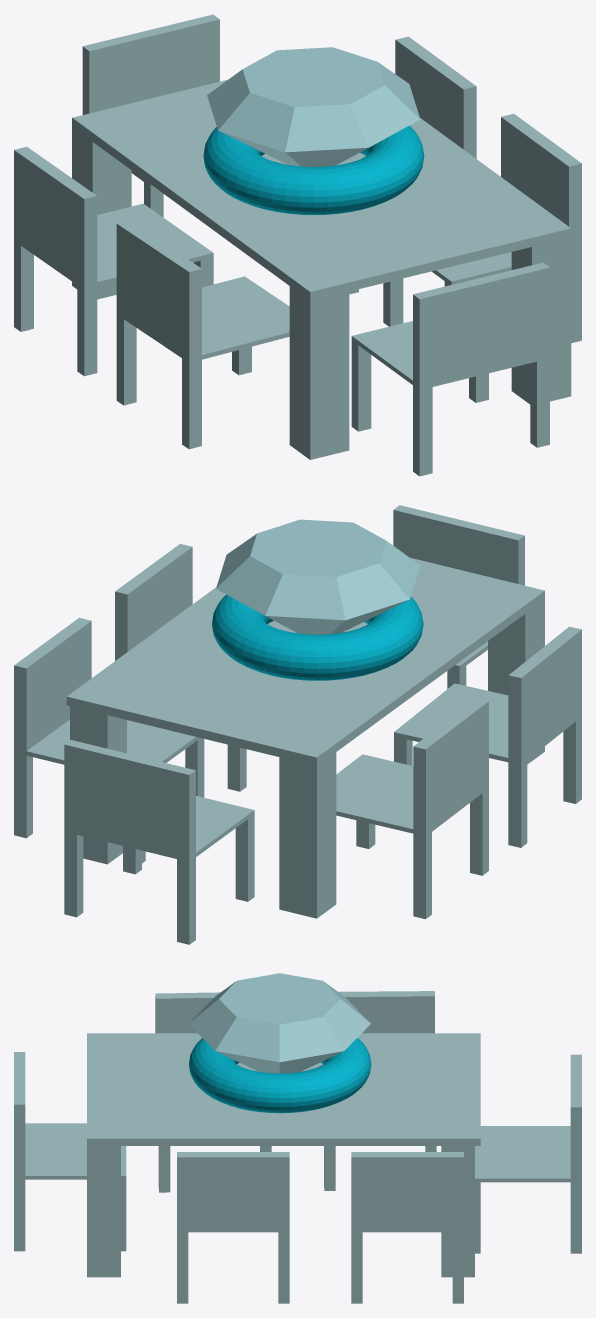
The model's file is table.glb.
The picture shows the model from 3 angles, top to bottom: view 1: azimuth 30°, elevation 25°; view 2: azimuth 150°, elevation 25°; view 3: azimuth 270°, elevation 25°; orthographic projection. The views are drawn at different scales.
Visible parts, largest first — view 1: Mesh_Mesh_head_geo.001_lambert2SG.001; view 2: Mesh_Mesh_head_geo.001_lambert2SG.001; view 3: Mesh_Mesh_head_geo.001_lambert2SG.001.
Part boxes in pixels (box(x1,y1,x2,y2)): Mesh_Mesh_head_geo.001_lambert2SG.001: box(14, 14, 581, 476); Mesh_Mesh_head_geo.001_lambert2SG.001: box(14, 505, 581, 944); Mesh_Mesh_head_geo.001_lambert2SG.001: box(14, 973, 581, 1303).
Bounding box in the file's own units: 0.0431 × 0.0268 × 0.0622.
